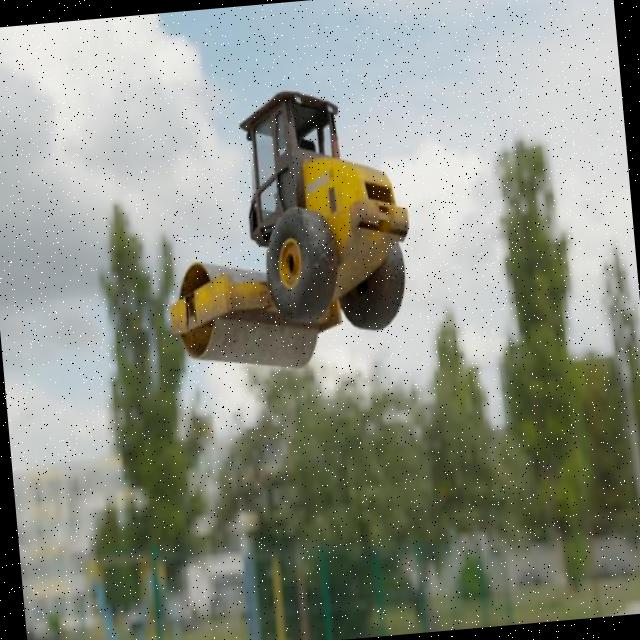Roller: (150, 79, 420, 378)
